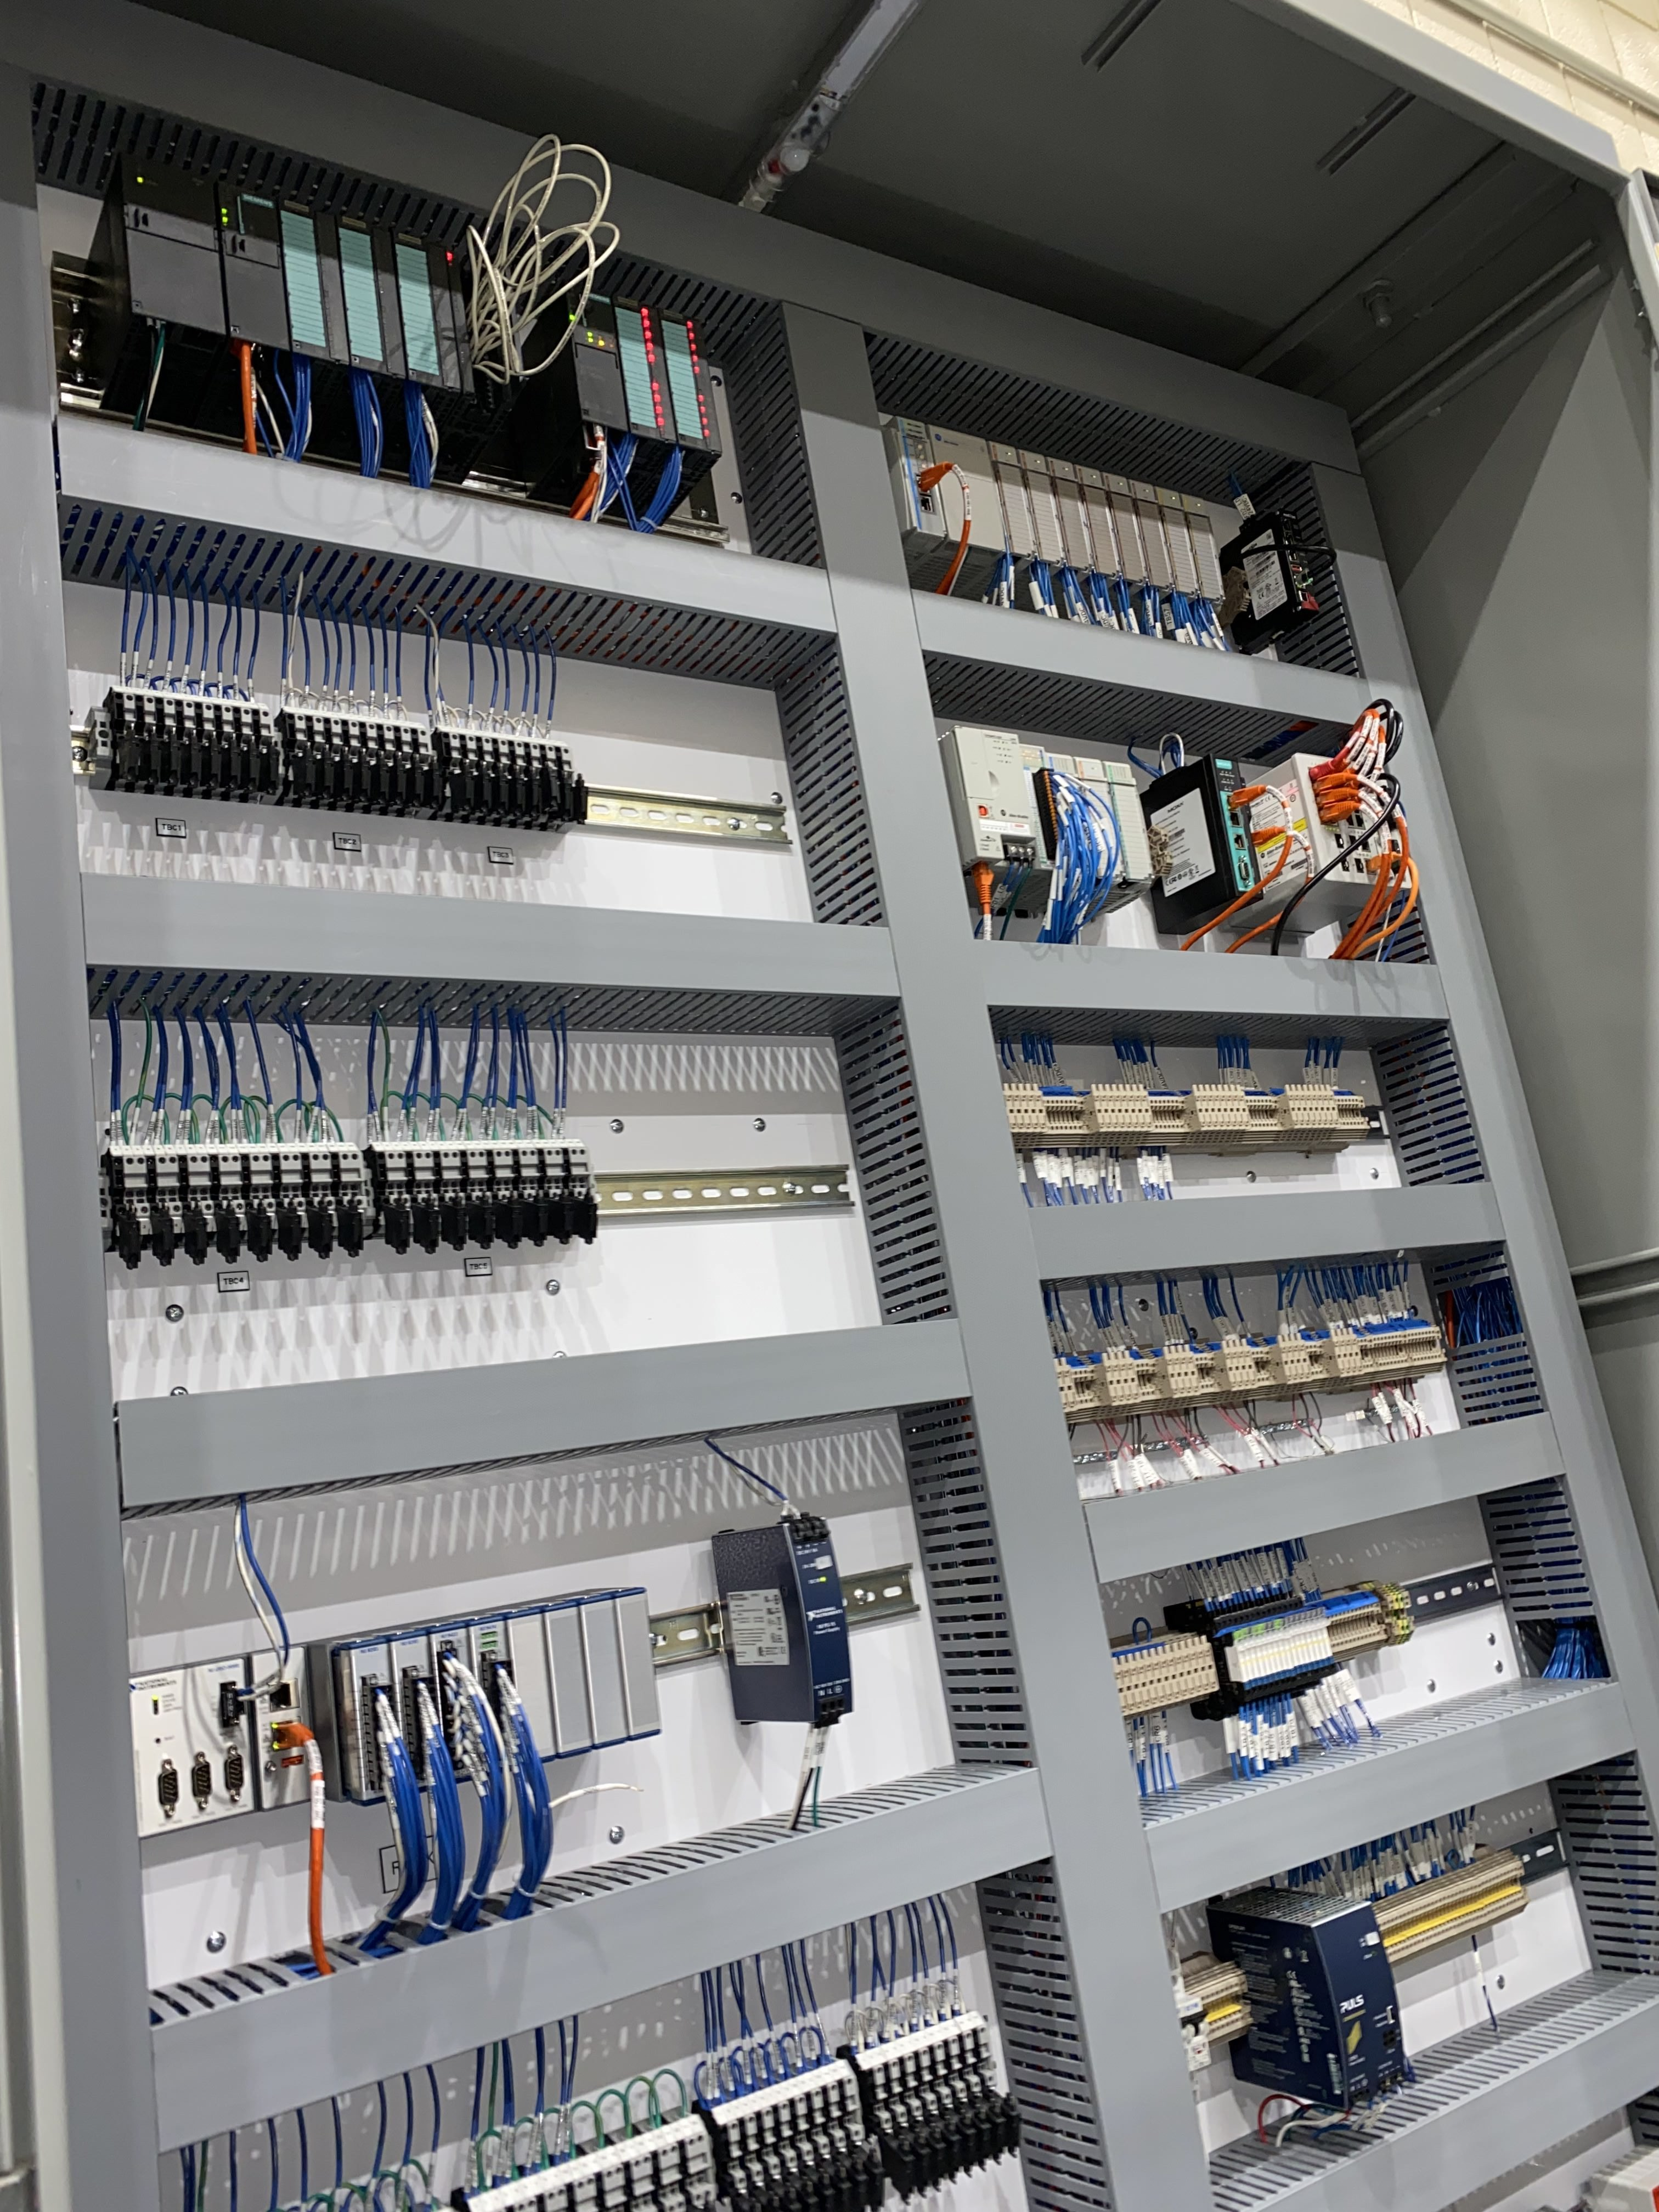AllenBradley: (950, 721, 1042, 876)
Siemens: (211, 174, 296, 355)
